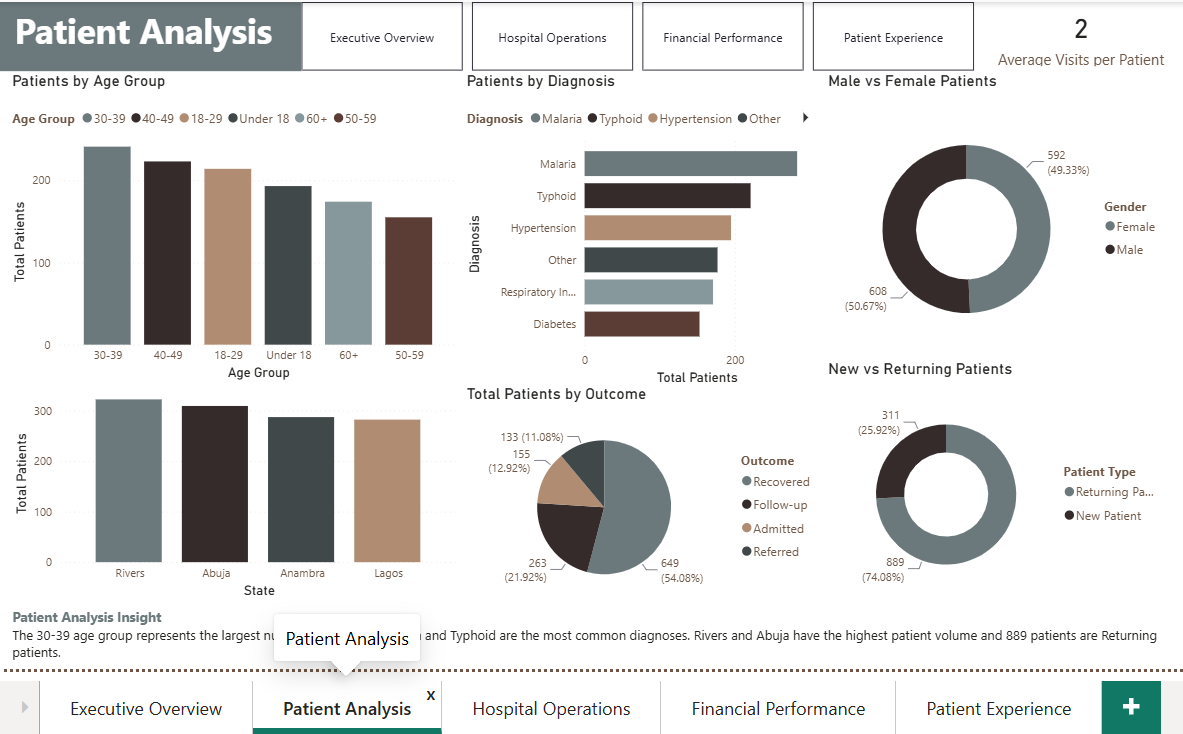

Layout of this report page (visuals, bound fields, positions):
{"tool":"powerbi","page":{"name":"Patient Analysis","canvas":[1280,720],"ordinal":1},"visuals":[{"type":"donutChart","title":"Male vs Female Patients","fields":{"Category":["Patient_Visits.Gender"],"Y":["Date_Table.Total Patients"]},"box":[889,74.5,374,310.9],"z":0},{"type":"barChart","title":"Patients by Diagnosis","fields":{"Category":["Patient_Visits.Diagnosis"],"Y":["Date_Table.Total Patients"],"Series":["Patient_Visits.Diagnosis"]},"box":[498.7,74.5,390.2,343.3],"z":1000},{"type":"columnChart","title":"Patients by State","fields":{"Y":["Date_Table.Total Patients"],"Category":["Patient_Visits.State"],"Series":["Patient_Visits.State"]},"box":[9.7,340,489,307.7],"z":2000},{"type":"pieChart","fields":{"Category":["Patient_Visits.Outcome"],"Y":["Date_Table.Total Patients"]},"box":[498.7,412.9,390.2,234.8],"z":3000},{"type":"columnChart","title":"Patients by Age Group","fields":{"Y":["Date_Table.Total Patients"],"Category":["Patient_Visits.Age Group"],"Series":["Patient_Visits.Age Group"]},"box":[8.1,74.5,490.6,338.4],"z":4000},{"type":"donutChart","title":"New vs Returning Patients","fields":{"Y":["Date_Table.Total Patients"],"Category":["Patient_Visits.Patient Type"]},"box":[889,385.4,374,262.3],"z":5000},{"type":"textbox","box":[-16.2,0,341.7,74.5],"z":6000},{"type":"card","fields":{"Values":["Date_Table.Average Visits per Patient"]},"box":[1052.5,0,228.3,74.5],"z":7000},{"type":"textbox","box":[8.1,647.7,1253.3,72.9],"z":7001},{"type":"pageNavigator","box":[325.5,0,727,74.5],"z":7002}]}

Visuals, with their boxes on the page's 1280x720 design canvas (x1, y1, x2, y2). These are canvas units, not pixel positions in the 1183x734 screenshot, which may show the page scaled, cropped or inside an application window:
"Male vs Female Patients" donutChart: (889, 74, 1263, 385)
"Patients by Diagnosis" barChart: (499, 74, 889, 418)
"Patients by State" columnChart: (10, 340, 499, 648)
pieChart - Patient_Visits.Outcome x Date_Table.Total Patients: (499, 413, 889, 648)
"Patients by Age Group" columnChart: (8, 74, 499, 413)
"New vs Returning Patients" donutChart: (889, 385, 1263, 648)
textbox: (-16, 0, 326, 74)
card - Date_Table.Average Visits per Patient: (1052, 0, 1281, 74)
textbox: (8, 648, 1261, 721)
pageNavigator: (326, 0, 1052, 74)
